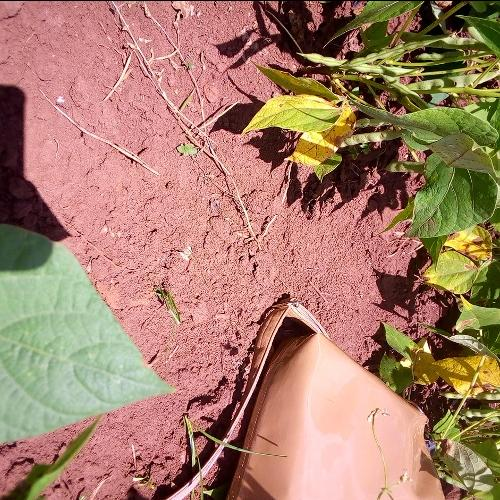sehat: (1, 230, 167, 448)
